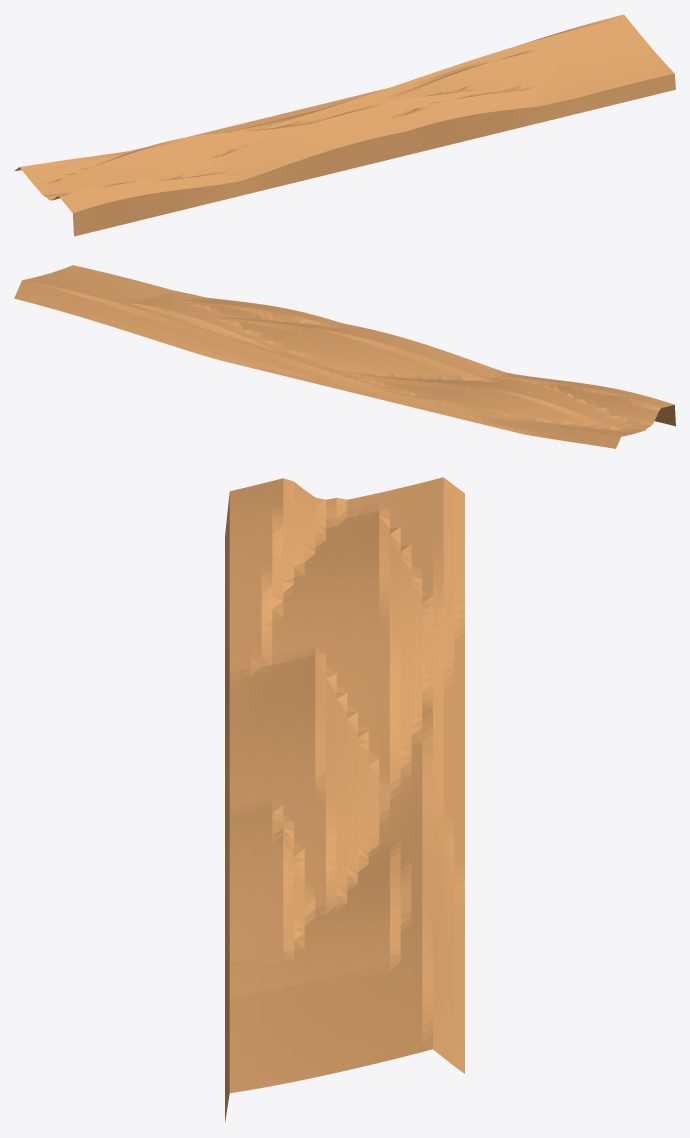
Rendered from dunes_canyon_far.glb.
The picture shows the model from 3 angles, top to bottom: view 1: azimuth 30°, elevation 25°; view 2: azimuth 150°, elevation 25°; view 3: azimuth 270°, elevation 25°; orthographic projection. The views are drawn at different scales.
Parts seen in each view (by area): view 1: land; view 2: land; view 3: land.
Boxes of the visible parts, x1,y1,x2,y2 form: land: (15, 14, 675, 236); land: (14, 265, 675, 448); land: (225, 477, 464, 1122).
Size of the model in its own units: 520 by 30.74 by 89.76.
